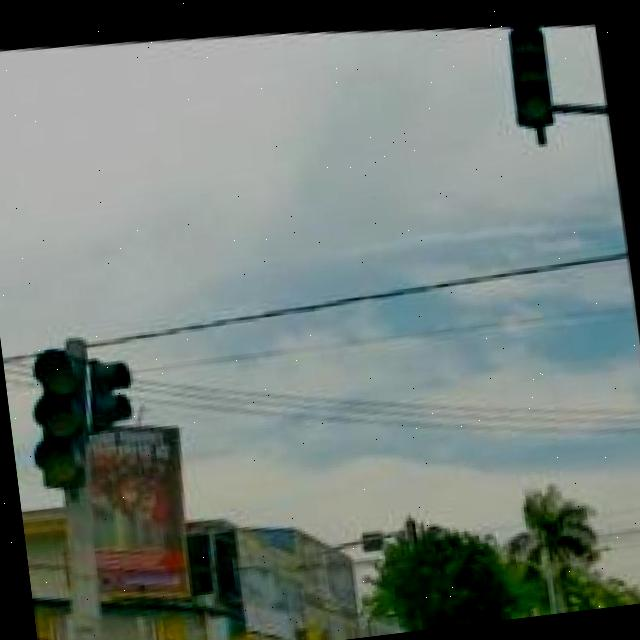green_light: (18, 339, 102, 493), (498, 12, 560, 124)
